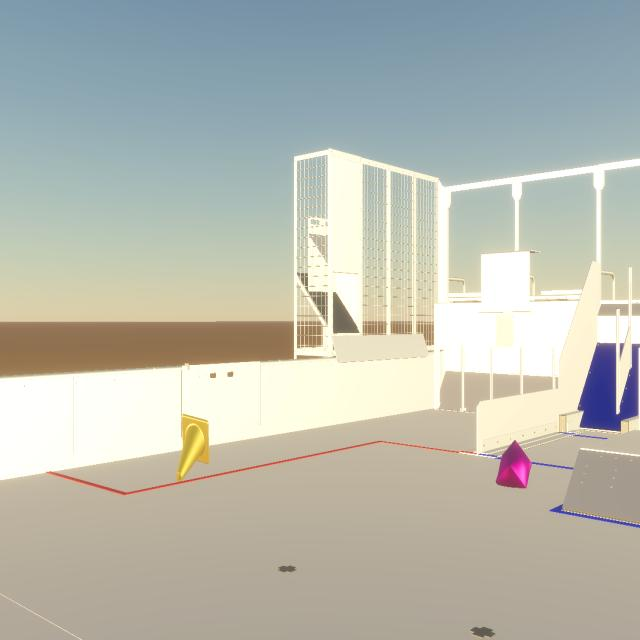frc_cone: (177, 414, 210, 482)
frc_cube: (496, 441, 532, 488)
